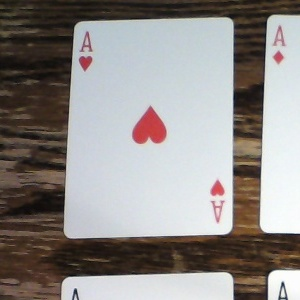card: (65, 15, 234, 238)
